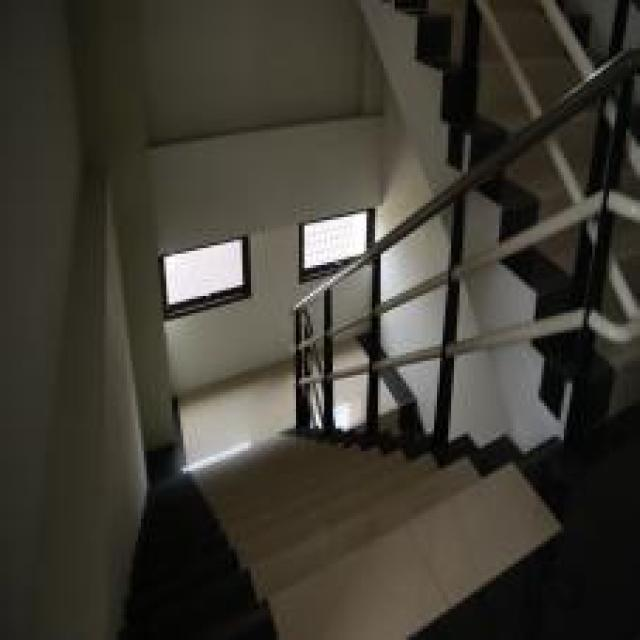downstair: (139, 455, 638, 638)
